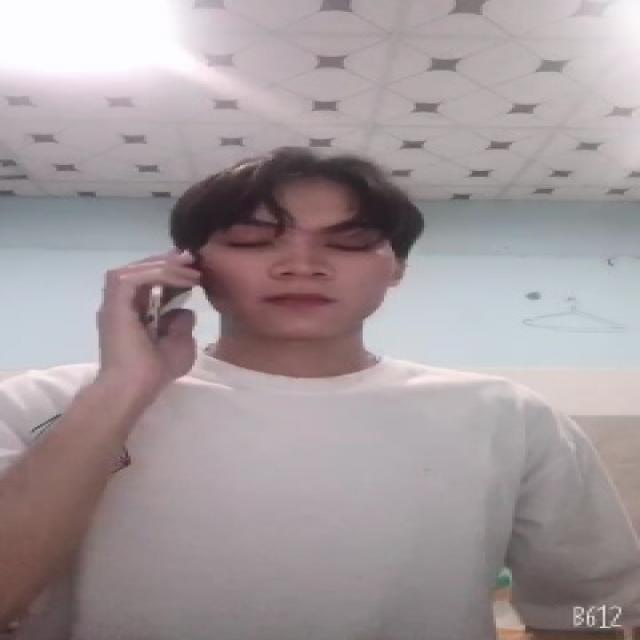Phone: (138, 252, 196, 347)
